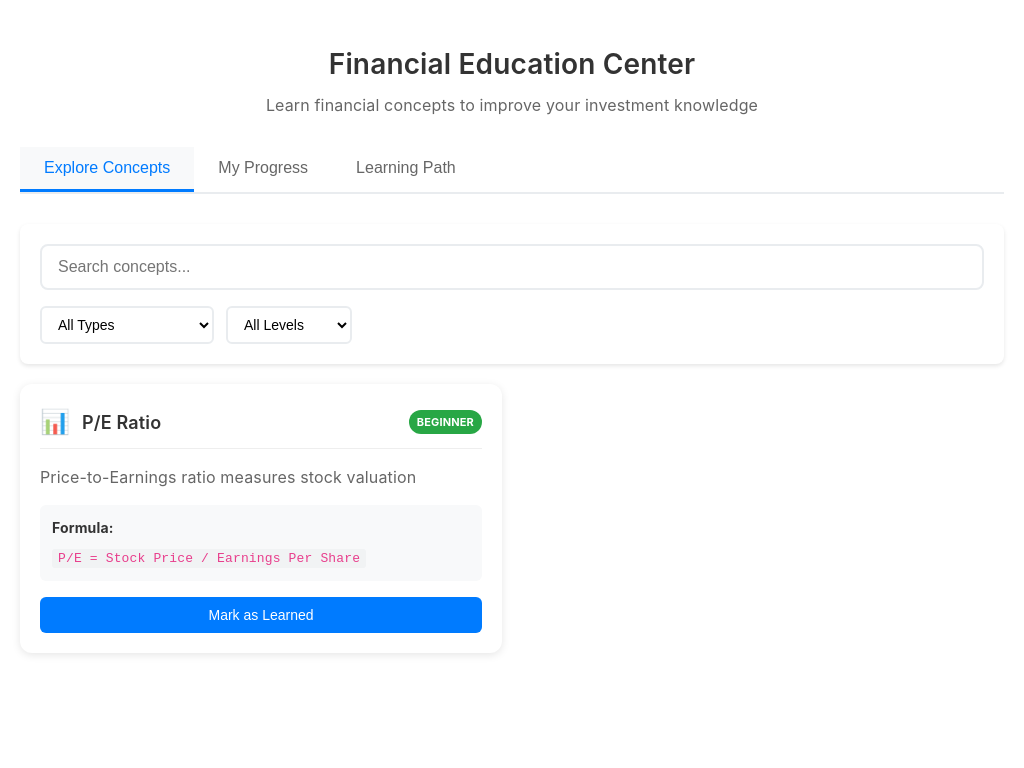
Educational Dashboard Integration › should show progress statistics
Note: Click on progress tab
What coordinates should you click on to do the following:
click the button "My Progress"
I would click on:
 (263, 170)
Its box is [194, 147, 332, 192].
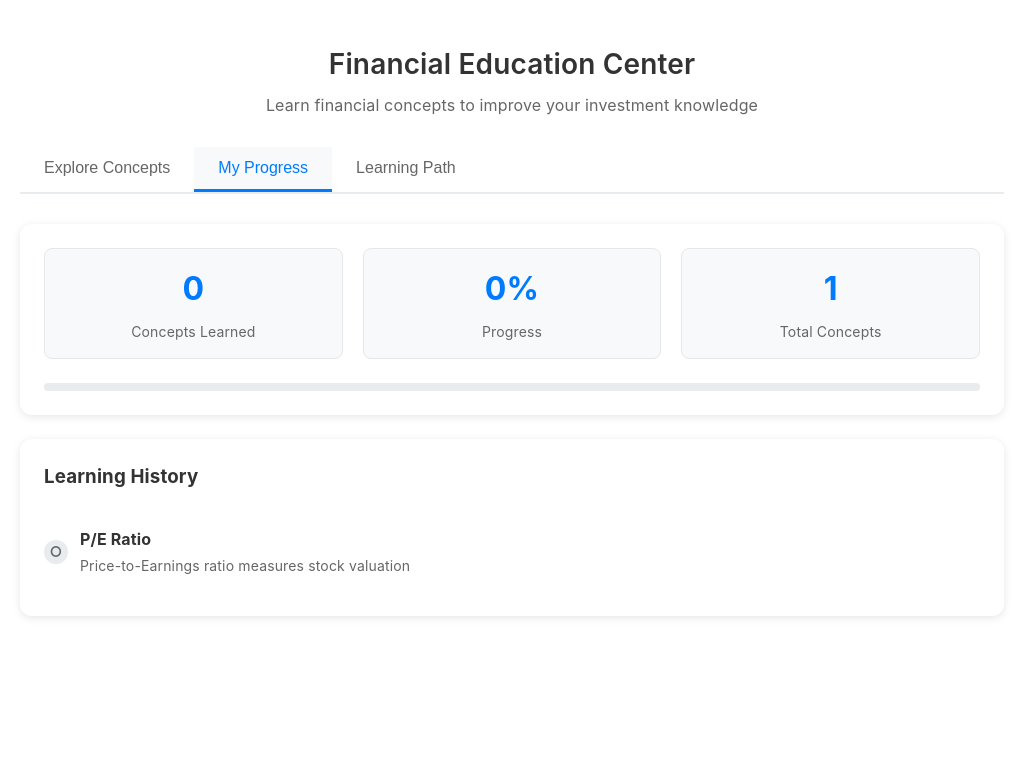
Now the text "Concepts Learned" is shown, box [131, 323, 256, 340]
Now the text "Progress" is shown, box [482, 323, 542, 340]
Now the text "Total Concepts" is shown, box [780, 323, 882, 340]
